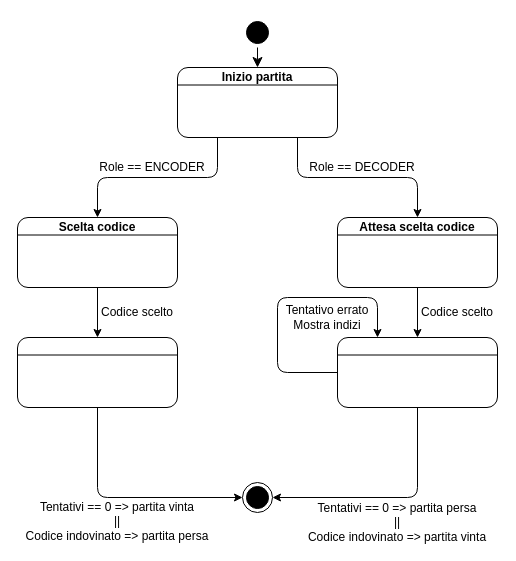
Image size: 516x561. Some labels were removed from this diagram. Here are the shapes that lost their labels. From the top down, the centre of each, then its label:
At pixel 97 372: "Osserva tentativi DECODER".
At pixel 417 372: "Effettua tentativi".
